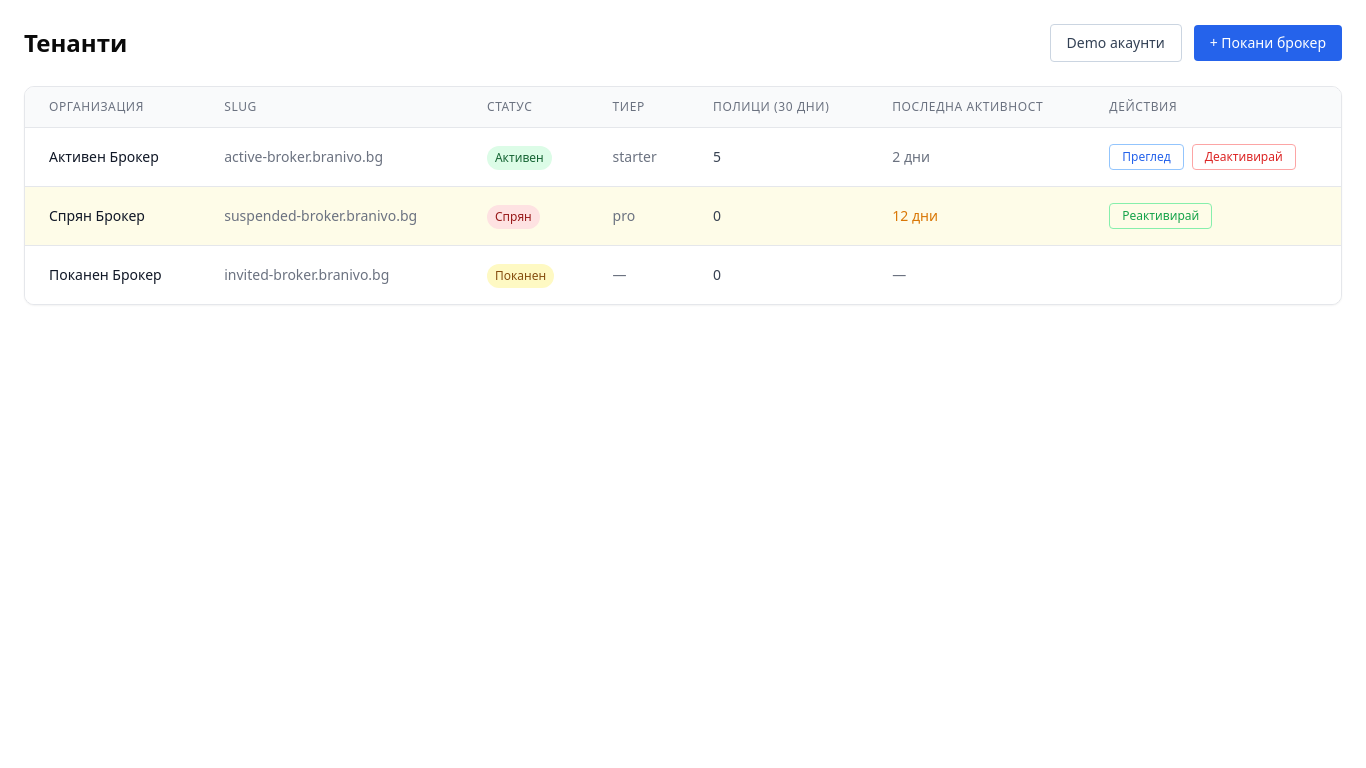
Test case: AdminTenantsPage — ConfirmStatusModal › opens ConfirmStatusModal with correct text when clicking "Деактивирай"
Check: the text "Активен Брокер" is shown, box [49, 147, 176, 167]
Click the button "Деактивирай": (1244, 157) [1192, 144, 1296, 170]
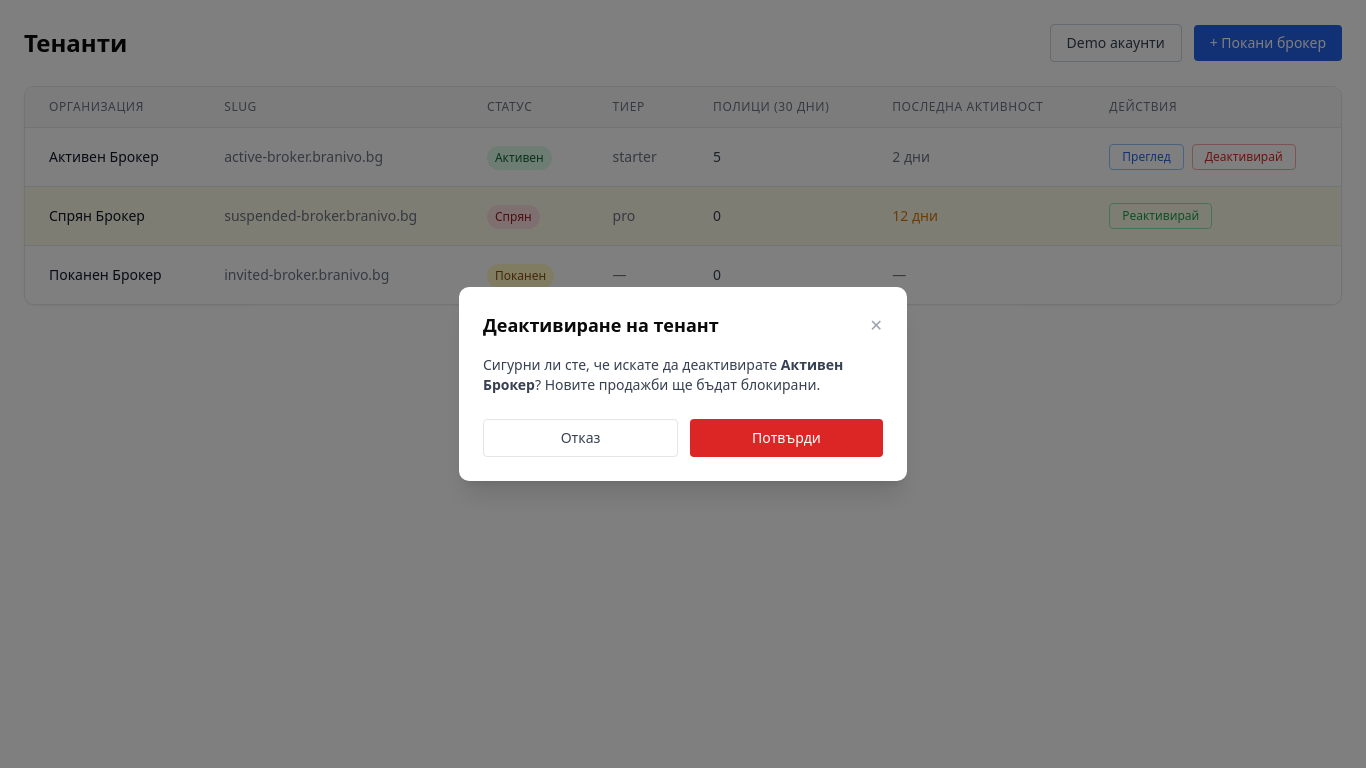
Check: the heading "Деактивиране на тенант" is shown, box [483, 311, 719, 339]
Check: the text "Новите продажби ще бъдат блокирани" is shown, box [535, 375, 820, 394]
